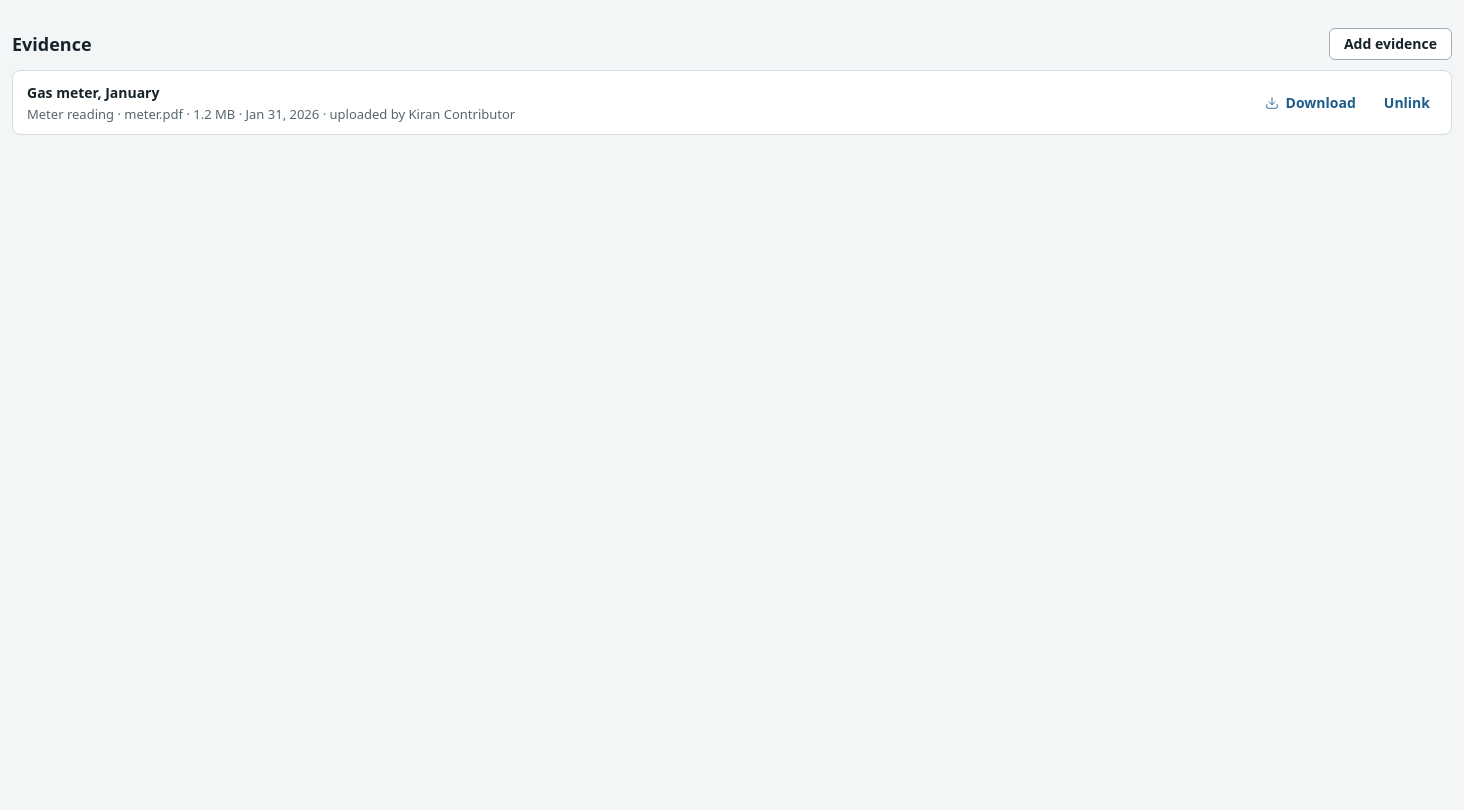
Test: evidence panel (M13-R1, R3, R4) › links an existing file of the client to this record (review M13 F2)
This screenshot has width=1464, height=810.
Click the button "Add evidence".
click(1390, 44)  # box [1329,28,1452,60]
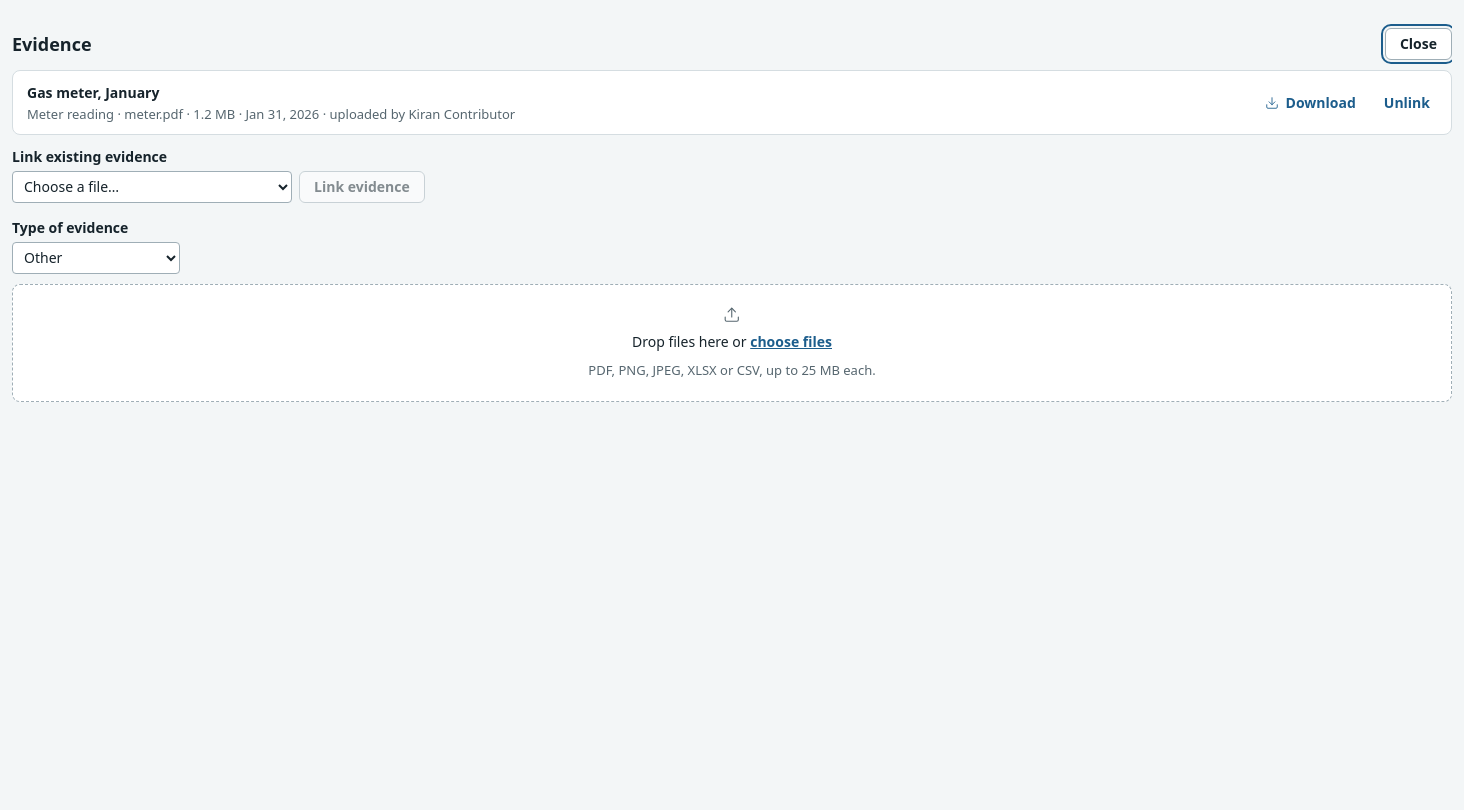
# The file already linked here is not offered again.
Select "Lab report, coke (Lab report)" in the dropdown labelled "Link existing evidence" at (152, 187), box [12,171,292,202]
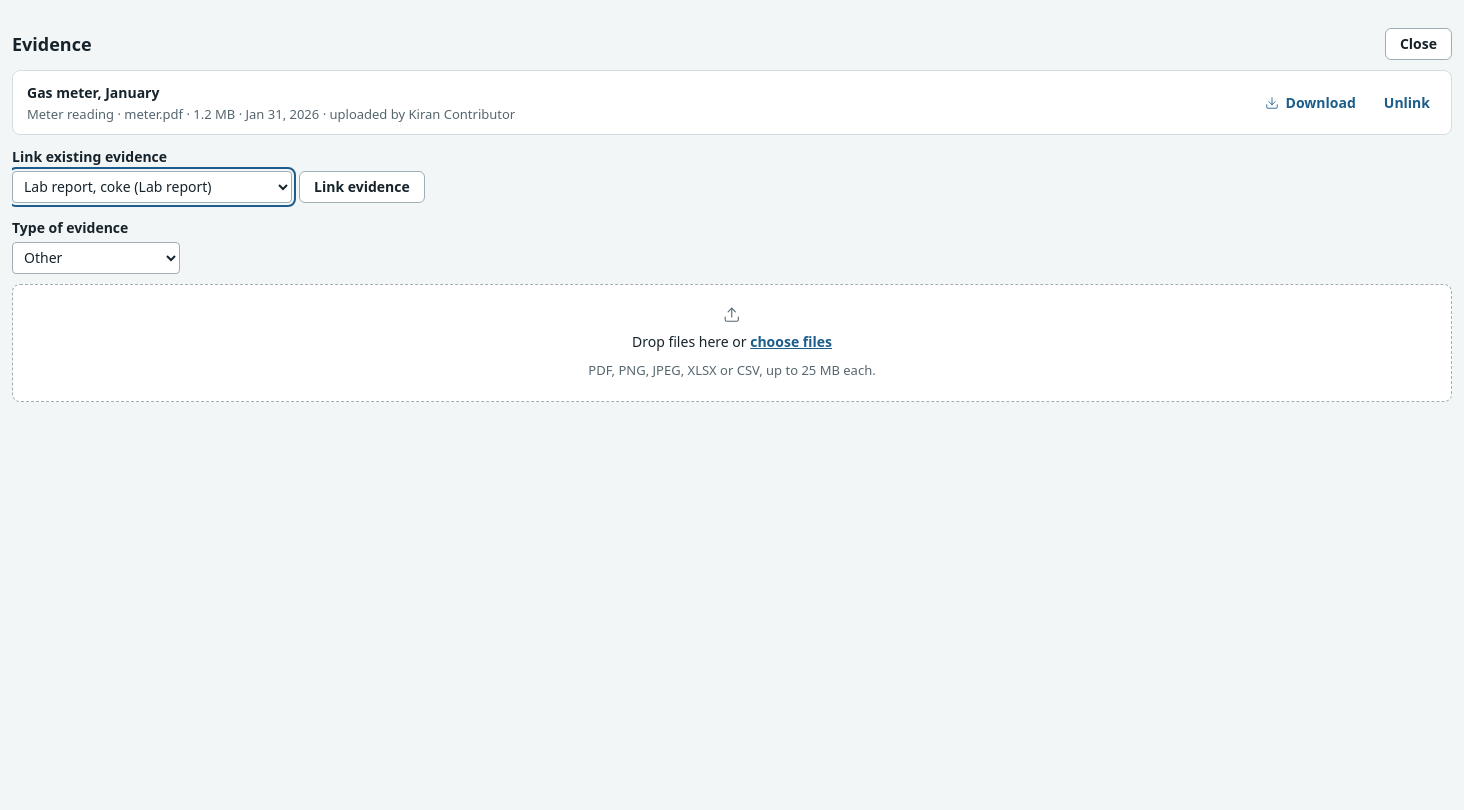
Click the button "Link evidence".
click(362, 187)  # box [299,171,425,202]
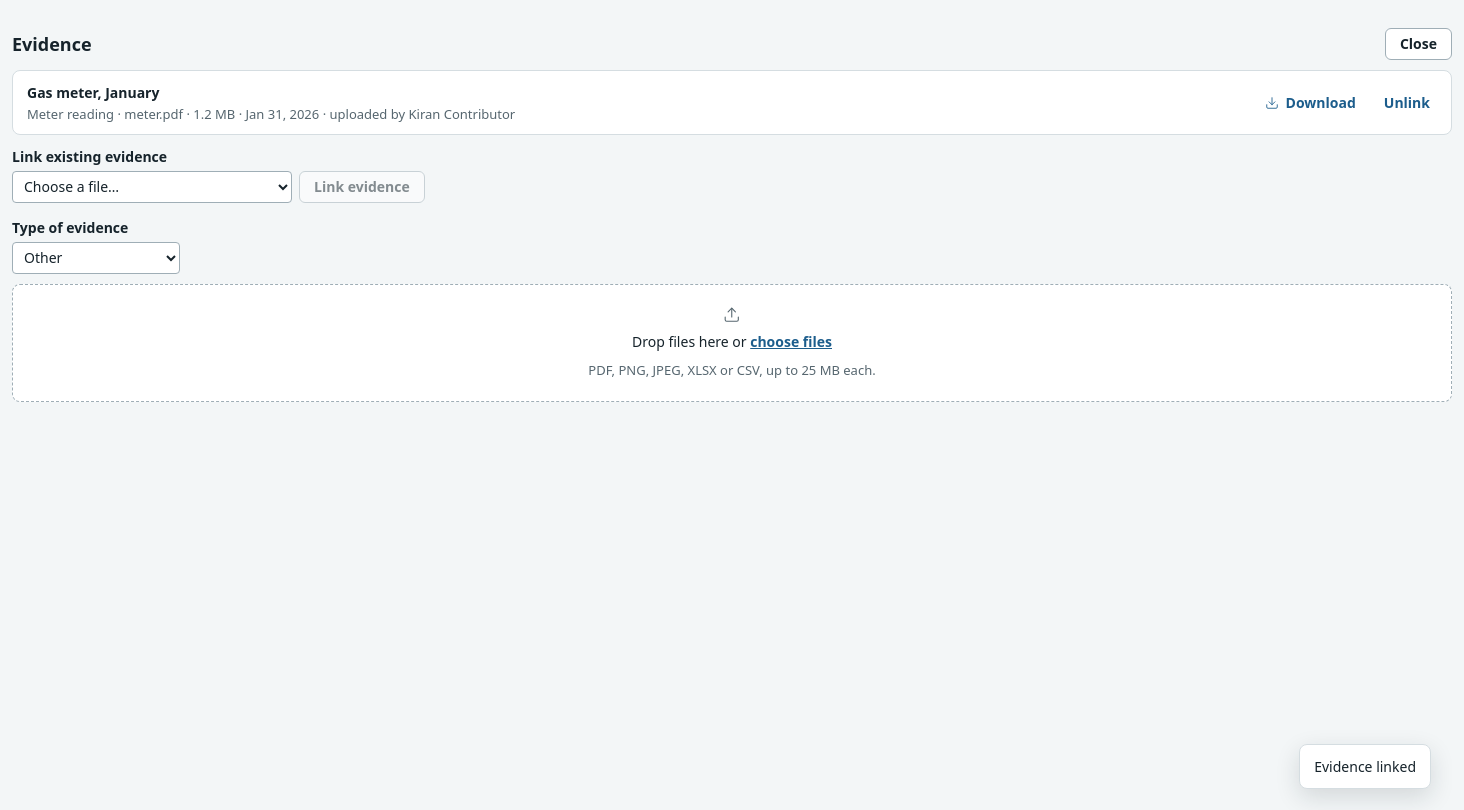
Expected: the text "Evidence linked" is shown, [1299,744,1431,789]
